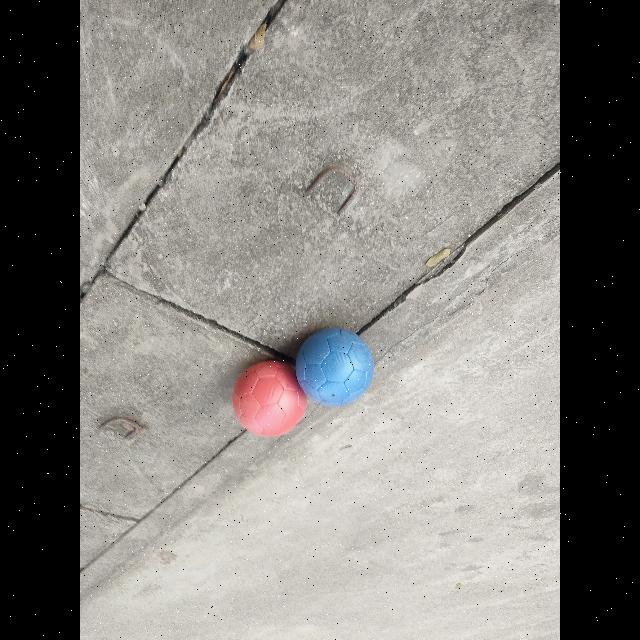B: (296, 328, 374, 407)
R: (232, 359, 308, 437)
